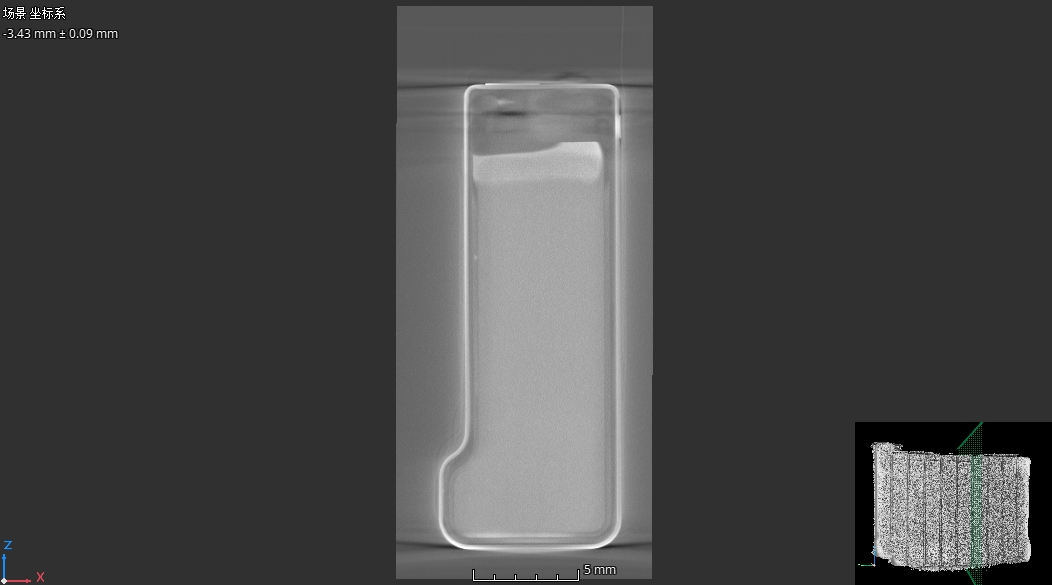light: (470, 252, 480, 262)
